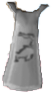fishingcape: (1, 1, 52, 93)
